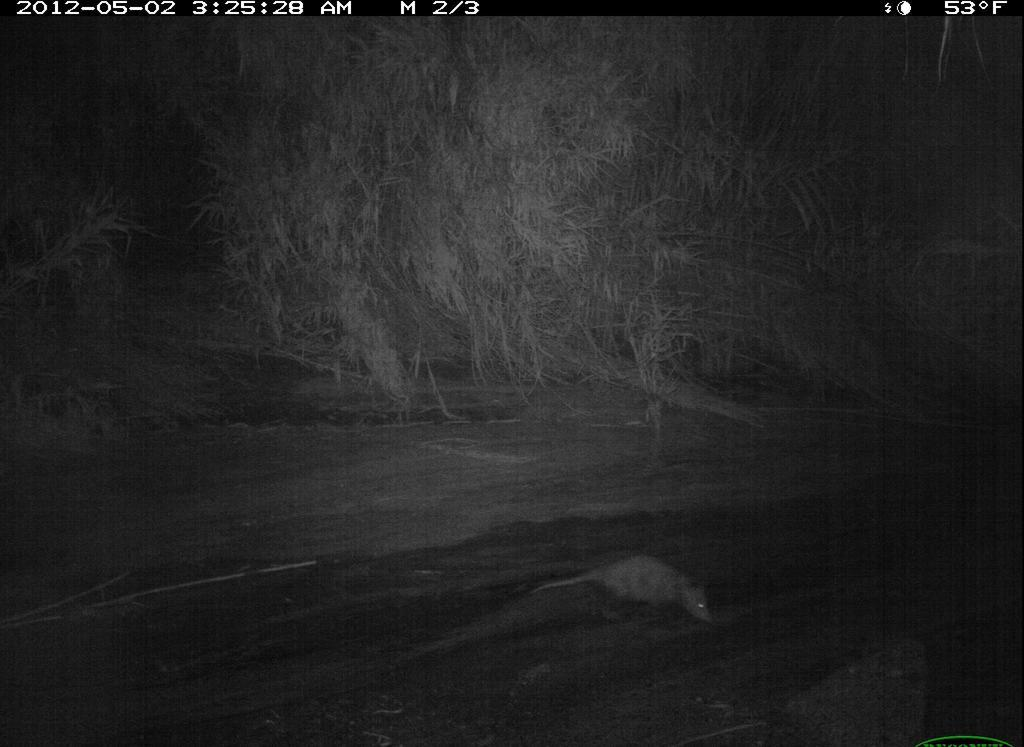opossum: (520, 546, 726, 635)
